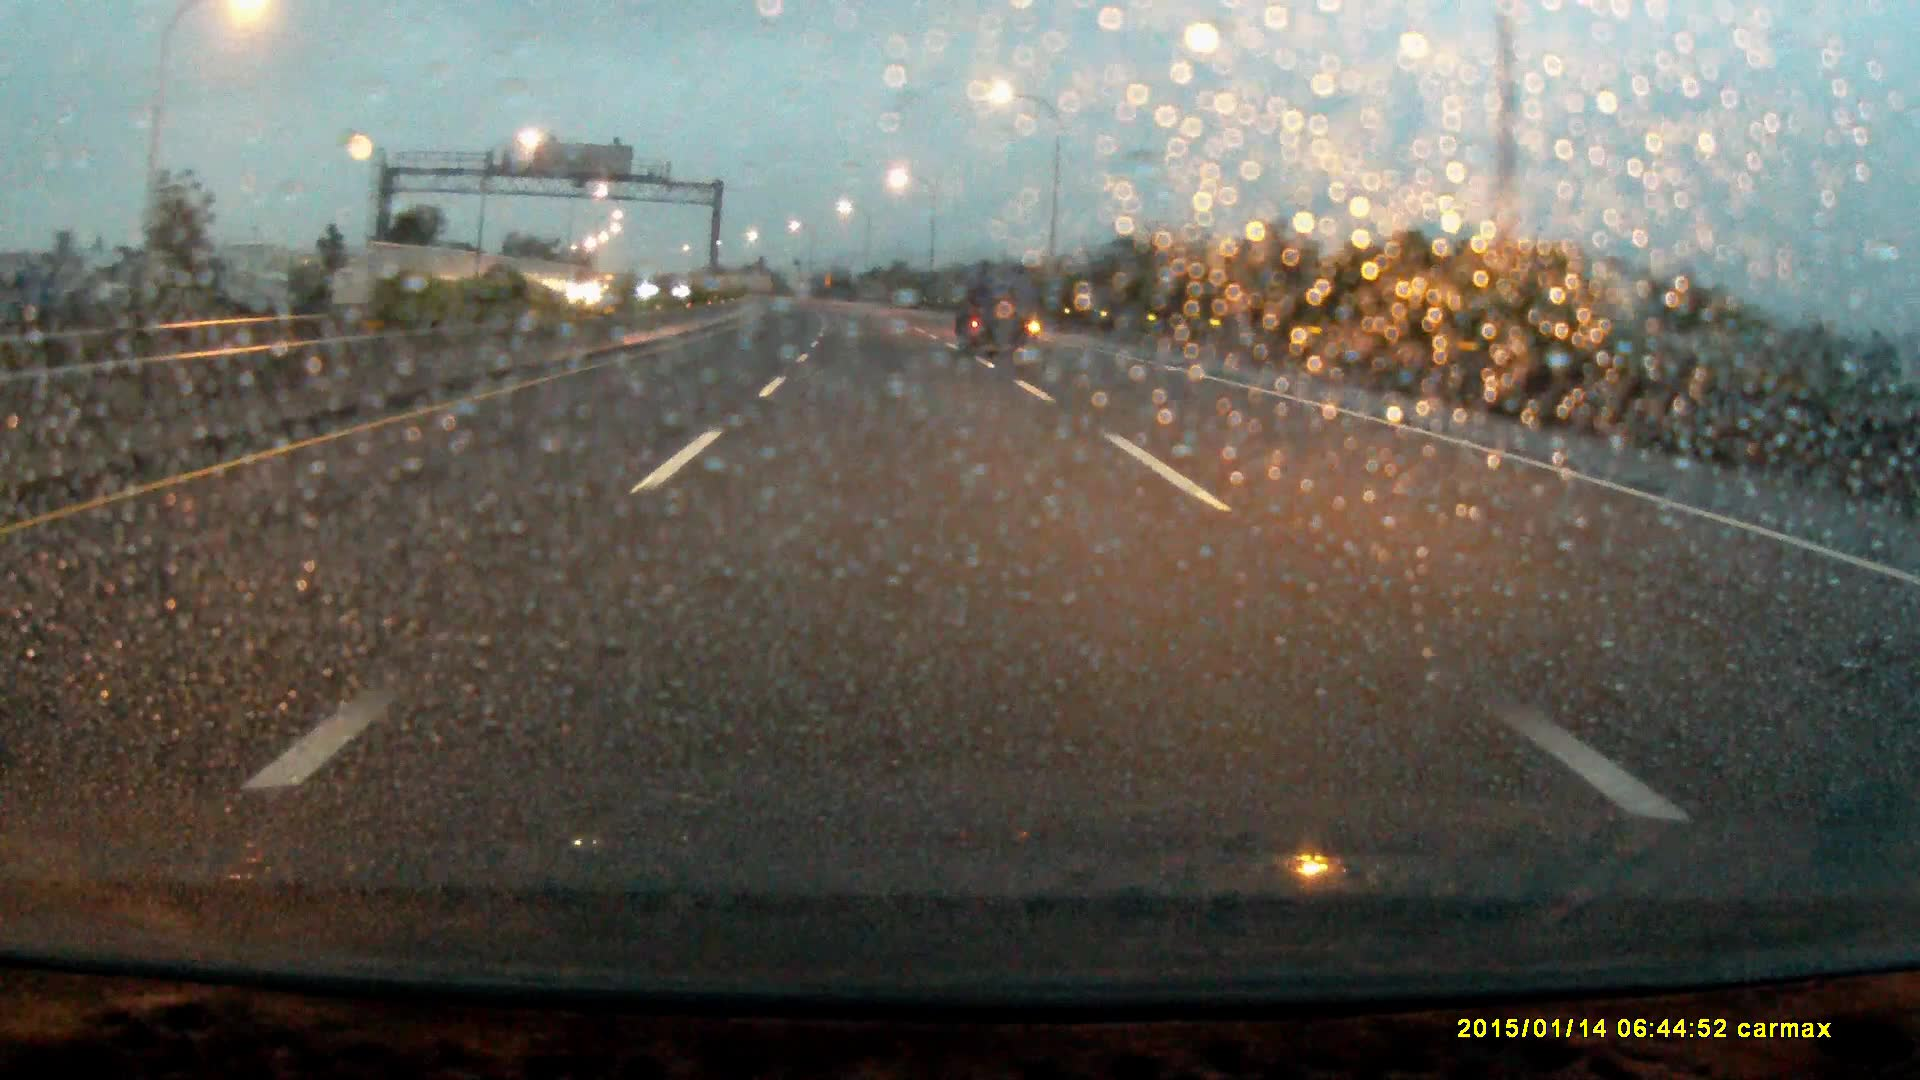vehicle: (957, 272, 1043, 361)
